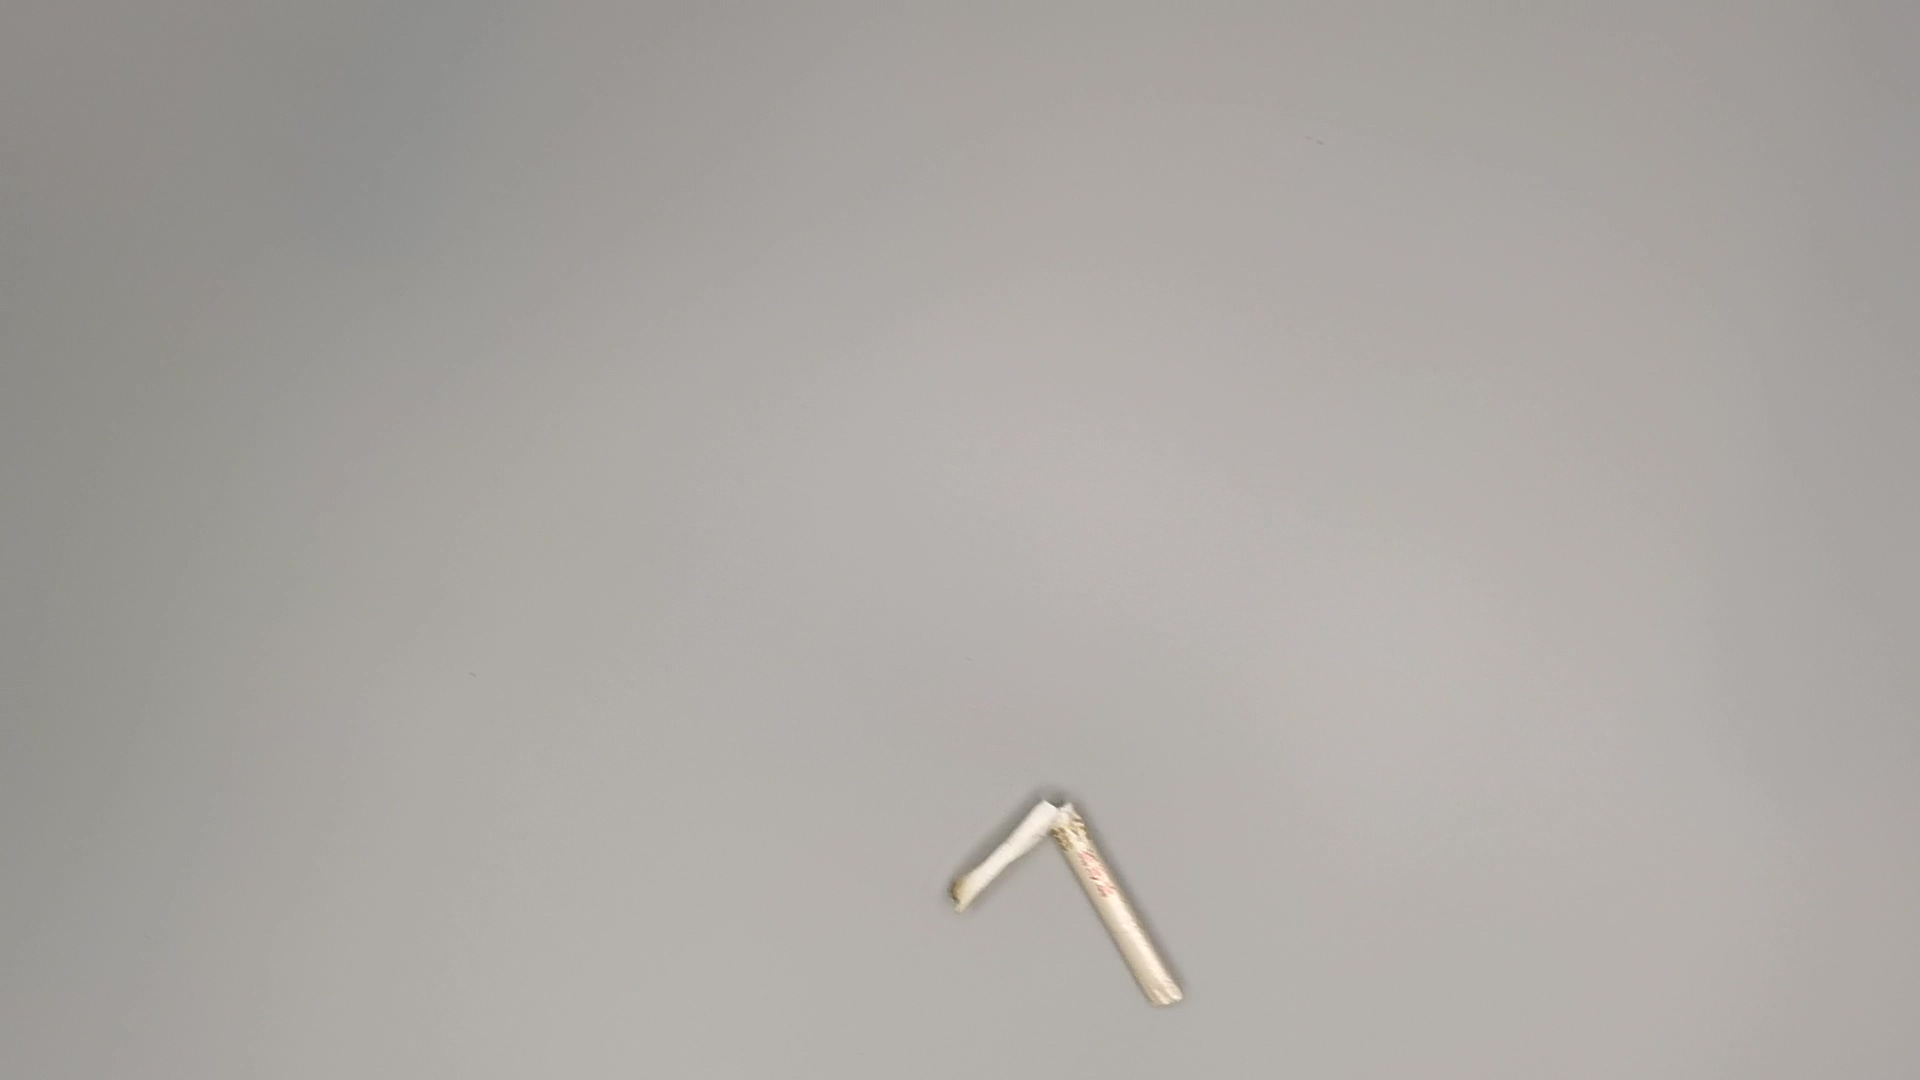cigarette: (952, 790, 1199, 1019)
